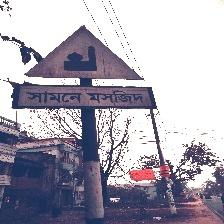Mosque in front: (14, 25, 155, 111)
